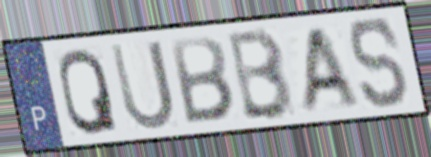A: (298, 23, 361, 116)
B: (226, 25, 296, 122), (168, 34, 237, 127)
Q: (56, 45, 121, 138)
S: (347, 15, 412, 112)
U: (107, 37, 178, 133)
